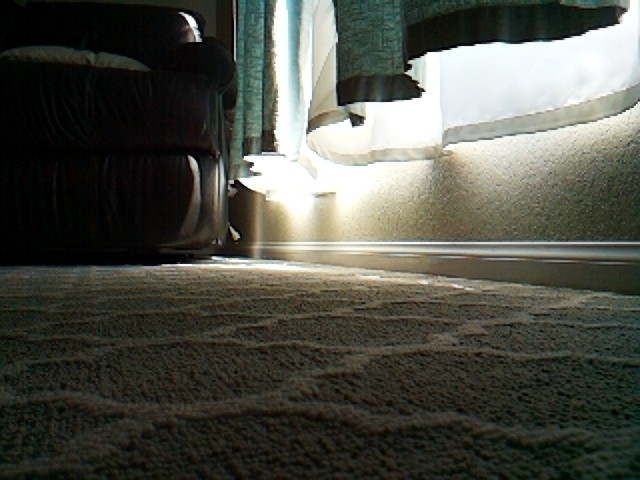Drivable Area: (12, 279, 442, 471), (437, 297, 635, 475)
Obstacle: (2, 3, 234, 265)
